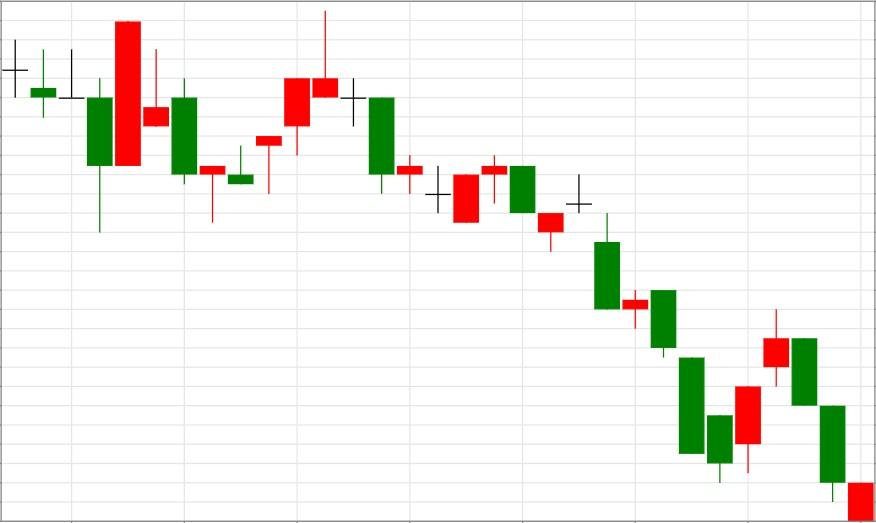shooting_star_fall: (228, 11, 339, 195)
